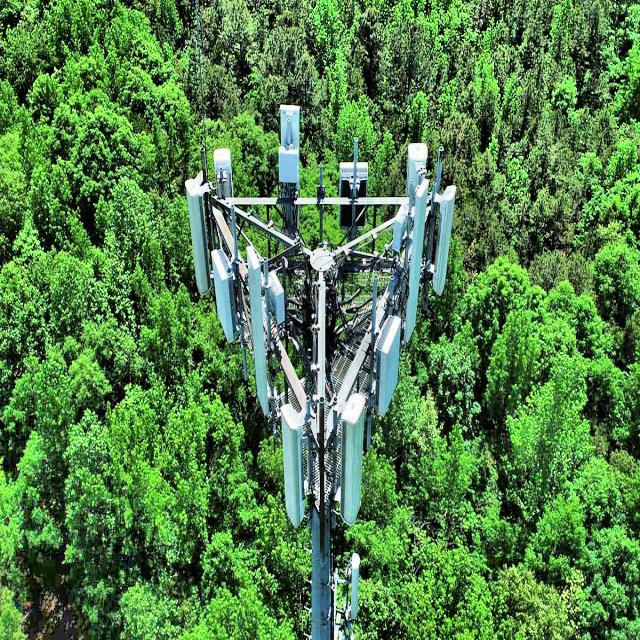antenna: (186, 175, 403, 639), (404, 179, 428, 341), (341, 393, 365, 524), (185, 174, 210, 294), (280, 404, 304, 527), (278, 105, 299, 236), (432, 185, 455, 294)
